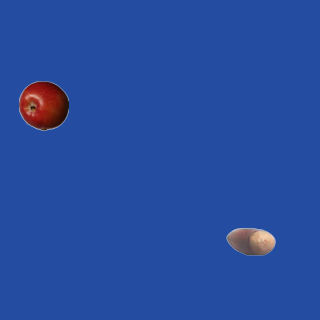Apple Braeburn: (18, 80, 68, 130)
Hazelnut: (225, 216, 275, 266)
